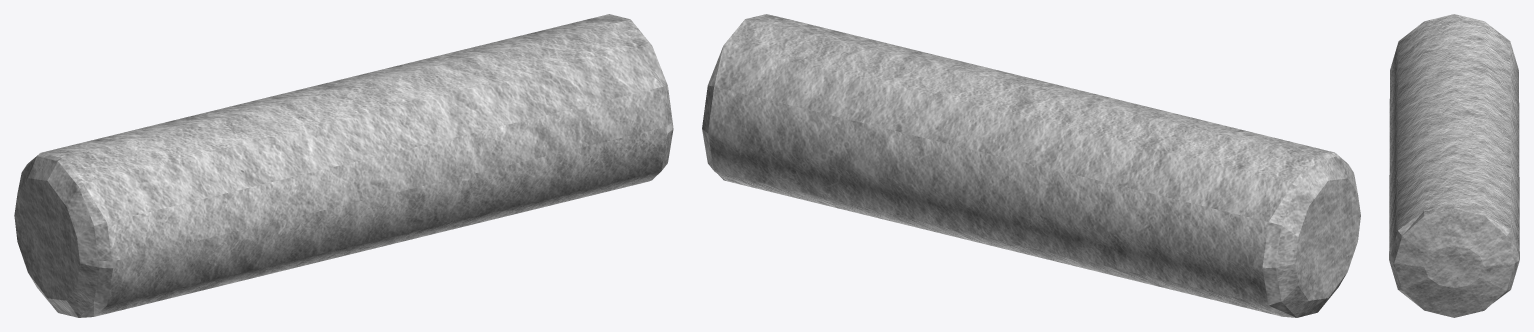
3 renders of one model, left to right at view 1: azimuth 30°, elevation 25°; view 2: azimuth 150°, elevation 25°; view 3: azimuth 270°, elevation 25°, orthographic. The views are drawn at different scales.
Visible parts, largest first — view 1: Cylinder001; view 2: Cylinder001; view 3: Cylinder001.
Boxes of the visible parts, x1,y1,x2,y2 form: Cylinder001: (14,14,673,317); Cylinder001: (702,14,1360,317); Cylinder001: (1389,14,1519,317).
Size of the model in its own units: 37.08 by 9.31 by 10.07.
1 material, 1 textured.
